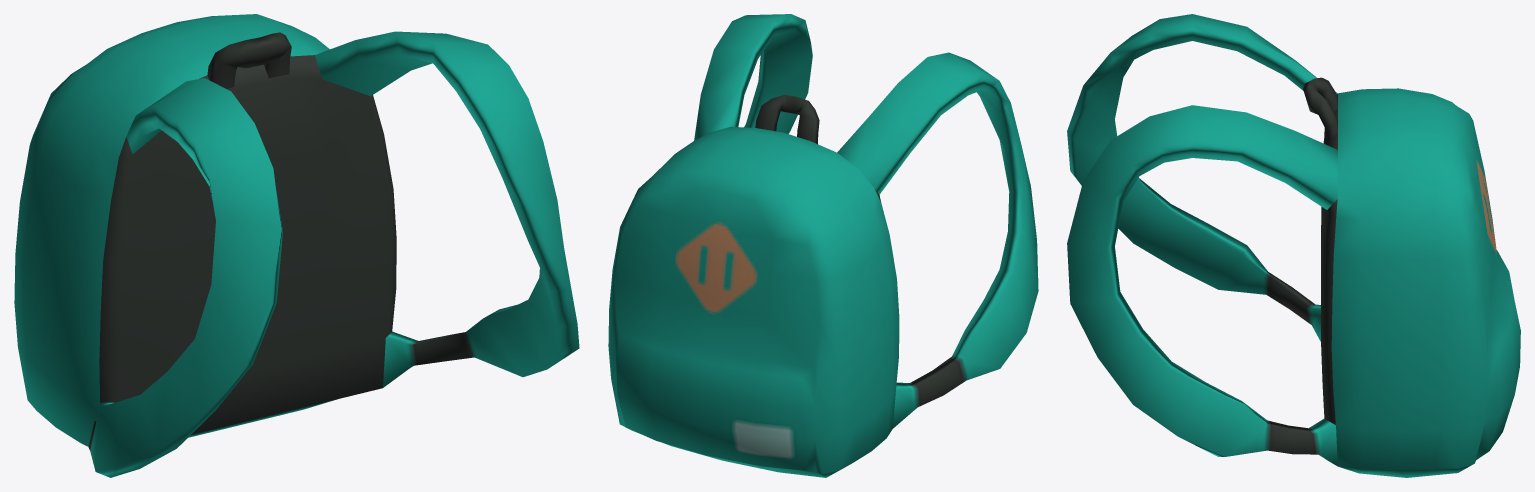
File: BagBackpackTown0.glb
The picture shows the model from 3 angles, left to right: view 1: azimuth 30°, elevation 25°; view 2: azimuth 150°, elevation 25°; view 3: azimuth 270°, elevation 25°; orthographic projection. The views are drawn at different scales.
Visible parts, largest first — view 1: Body__mBag; view 2: Body__mBag; view 3: Body__mBag.
Boxes of the visible parts, x1=… form: Body__mBag: x1=14, y1=14, x2=579, y2=477; Body__mBag: x1=608, y1=14, x2=1038, y2=477; Body__mBag: x1=1067, y1=14, x2=1520, y2=477.
Bounding box in the file's own units: 3.8 × 3.61 × 4.03.
Materials: 1 (1 with a texture image).
